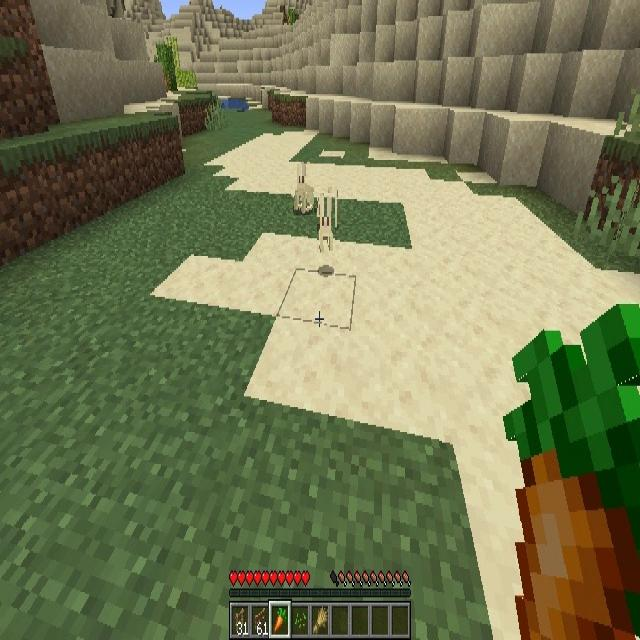rabbit: (317, 193, 335, 256), (293, 164, 314, 216)
